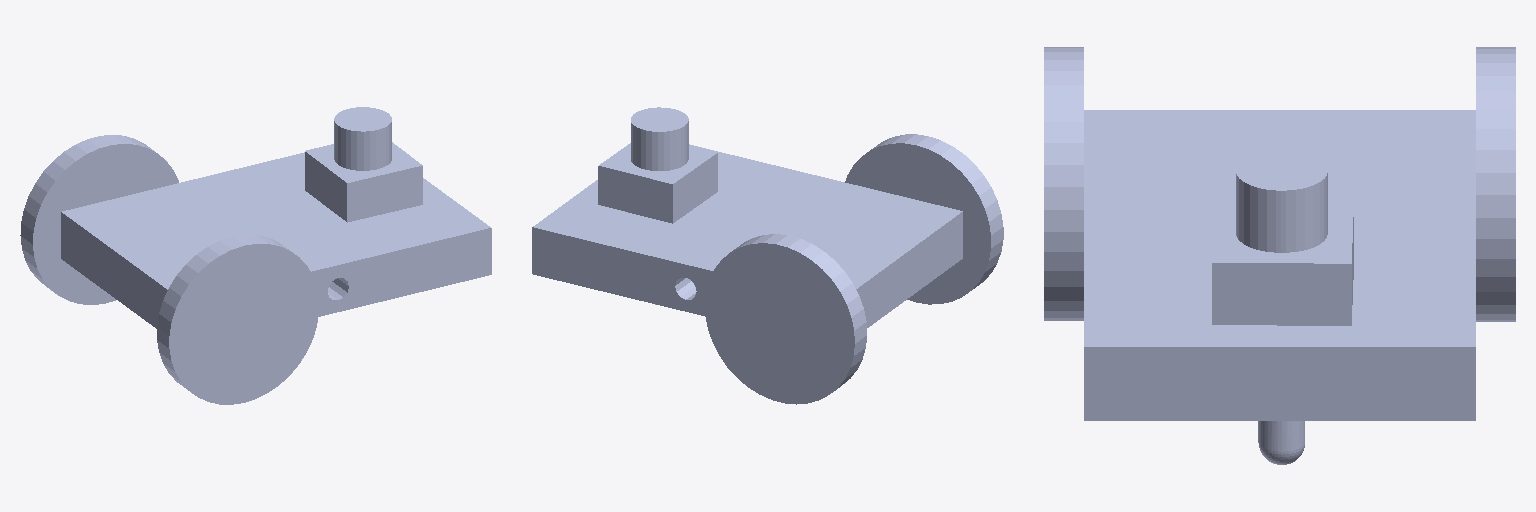
robot.urdf — differential:
<?xml version="1.0" encoding="utf-8"?>

<robot
  name="differential">


 <link name="base_footprint">
    
    <visual>
        <origin xyz="0 0 0" rpy="0 0 0" />
        <geometry>
            <box size="0.001 0.001 0.001" />
        </geometry>
    </visual>
  </link>

  <gazebo reference="base_footprint">
    <turnGravityOff>false</turnGravityOff>
  </gazebo>


<joint name="base_footprint_joint" type="fixed">
    <parent link="base_footprint" />
    <child link="base_link" />
    <origin xyz="0 0 0.04" rpy="0 0 0"/>
</joint> 


  <link
    name="base_link">
    <inertial>
      <origin
        xyz="0.0013326168773394 0 -0.0104935829042825"
        rpy="0 0 0" />
      <mass
        value="0.291996112689346" />
      <inertia
        ixx="0.000254300038430057"
        ixy="-6.31039545704454E-20"
        ixz="9.53312318029064E-08"
        iyy="0.000500563376859241"
        iyz="-1.27978613819878E-20"
        izz="0.000732923526244761" />
    </inertial>
    <visual>
      <origin
        xyz="0 0 0"
        rpy="0 0 0" />
      <geometry>
        <mesh
          filename="package://differential/meshes/base_link.STL" />
      </geometry>
      <material
        name="">
        <color
          rgba="0.792156862745098 0.819607843137255 0.933333333333333 1" />
      </material>
    </visual>
    <collision>
      <origin
        xyz="0 0 0"
        rpy="0 0 0" />
      <geometry>
        <mesh
          filename="package://differential/meshes/base_link.STL" />
      </geometry>
    </collision>
  </link>
  <link
    name="l_Link">
    <inertial>
      <origin
        xyz="1.38777878078145E-17 -0.00520000000000001 6.93889390390723E-18"
        rpy="0 0 0" />
      <mass
        value="0.0392699081698724" />
      <inertia
        ixx="1.21950081827661E-05"
        ixy="1.37642853928824E-21"
        ixz="8.60007289721248E-22"
        iyy="2.35815798560084E-05"
        iyz="1.83698225145457E-22"
        izz="1.21950081827661E-05" />
    </inertial>
    <visual>
      <origin
        xyz="0 0 0"
        rpy="0 0 0" />
      <geometry>
        <mesh
          filename="package://differential/meshes/l_Link.STL" />
      </geometry>
      <material
        name="">
        <color
          rgba="0.792156862745098 0.819607843137255 0.933333333333333 1" />
      </material>
    </visual>
    <collision>
      <origin
        xyz="0 0 0"
        rpy="0 0 0" />
      <geometry>
        <mesh
          filename="package://differential/meshes/l_Link.STL" />
      </geometry>
    </collision>
  </link>
  <joint
    name="ljoint"
    type="continuous">
    <origin
      xyz="-0.0495441632055891 0.06 -0.0107385754247457"
      rpy="0 0 0" />
    <parent
      link="base_link" />
    <child
      link="l_Link" />
    <axis
      xyz="0 1 0" />
    <limit
      effort="2"
      velocity="2" />
  </joint>
  <link
    name="r_Link">
    <inertial>
      <origin
        xyz="0.0051993019972844 8.51982454893874E-05 6.93889390390723E-18"
        rpy="0 0 0" />
      <mass
        value="0.0392699081698724" />
      <inertia
        ixx="2.35785231927301E-05"
        ixy="1.86535713227953E-07"
        ixz="2.88283775464071E-23"
        iyy="1.21980648460444E-05"
        iyz="8.02913433156683E-22"
        izz="1.21950081827661E-05" />
    </inertial>
    <visual>
      <origin
        xyz="0 0 0"
        rpy="0 0 0" />
      <geometry>
        <mesh
          filename="package://differential/meshes/r_Link.STL" />
      </geometry>
      <material
        name="">
        <color
          rgba="0.792156862745098 0.819607843137255 0.933333333333333 1" />
      </material>
    </visual>
    <collision>
      <origin
        xyz="0 0 0"
        rpy="0 0 0" />
      <geometry>
        <mesh
          filename="package://differential/meshes/r_Link.STL" />
      </geometry>
    </collision>
  </link>
  <joint
    name="rjoint"
    type="continuous">
    <origin
      xyz="-0.0495441632055891 -0.06 -0.0107385754247457"
      rpy="0 0 1.55441131568254" />
    <parent
      link="base_link" />
    <child
      link="r_Link" />
    <axis
      xyz="-0.999865768708538 -0.0163842779787271 0" />
    <limit
      effort="2"
      velocity="2" />
  </joint>
  <link
    name="sense">
    <inertial>
      <origin
        xyz="0.000345412463142514 0.00023279027761031 -0.0217463220907179"
        rpy="0 0 0" />
      <mass
        value="0.029229722273242" />
      <inertia
        ixx="4.99374006642867E-06"
        ixy="-8.14468679690465E-10"
        ixz="4.5470529966785E-08"
        iyy="4.92453447666973E-06"
        iyz="3.0644804179198E-08"
        izz="5.00463651434428E-06" />
    </inertial>
    <visual>
      <origin
        xyz="0 0 0"
        rpy="0 0 0" />
      <geometry>
        <mesh
          filename="package://differential/meshes/sense.STL" />
      </geometry>
      <material
        name="">
        <color
          rgba="0.792156862745098 0.819607843137255 0.933333333333333 1" />
      </material>
    </visual>
    <collision>
      <origin
        xyz="0 0 0"
        rpy="0 0 0" />
      <geometry>
        <mesh
          filename="package://differential/meshes/sense.STL" />
      </geometry>
    </collision>
  </link>
  <joint
    name="sj"
    type="fixed">
    <origin
      xyz="0.0407417104772299 0.000502264694932055 0.035"
      rpy="0 0 -0.0163850111123556" />
    <parent
      link="base_link" />
    <child
      link="sense" />
    <axis
      xyz="1 0 0" />
  </joint>
  <link
    name="castor_Link">
    <inertial>
      <origin
        xyz="0 0 0.0109583333333333"
        rpy="0 0 0" />
      <mass
        value="0.00271433605270158" />
      <inertia
        ixx="1.56552159272952E-07"
        ixy="2.06795153138257E-24"
        ixz="3.60236627318405E-23"
        iyy="1.56552159272952E-07"
        iyz="-1.35750140169932E-23"
        izz="4.72294473170075E-08" />
    </inertial>
    <visual>
      <origin
        xyz="0 0 0"
        rpy="0 0 0" />
      <geometry>
        <mesh
          filename="package://differential/meshes/castor_Link.STL" />
      </geometry>
      <material
        name="">
        <color
          rgba="0.792156862745098 0.819607843137255 0.933333333333333 1" />
      </material>
    </visual>
    <collision>
      <origin
        xyz="0 0 0"
        rpy="0 0 0" />
      <geometry>
        <mesh
          filename="package://differential/meshes/castor_Link.STL" />
      </geometry>
    </collision>
  </link>
  <joint
    name="castor_joint"
    type="fixed">
    <origin
      xyz="0.0407417104772299 0.000502264694932059 -0.044"
      rpy="0 0 0" />
    <parent
      link="base_link" />
    <child
      link="castor_Link" />
    <axis
      xyz="0 0 1" />
    <limit
      effort="2"
      velocity="2" />
  </joint>

<!--wheel plugins and sensor plugins-->

<gazebo reference="sense">
    <material>Gazebo/Blue</material>
    <turnGravityOff>false</turnGravityOff>
    <sensor type="ray" name="head_hokuyo_sensor">
      <pose>4 0 0 0 0 0</pose>
      <visualize>true</visualize>
      <update_rate>40</update_rate>
      <ray>
        <scan>
          <horizontal>
            <samples>720</samples>
            <resolution>1</resolution>
            <min_angle>-1.570796</min_angle>
            <max_angle>1.570796</max_angle>
          </horizontal>
        </scan>
        <range>
          <min>0.10</min>
          <max>10.0</max>
          <resolution>0.001</resolution>
        </range>
      </ray>
      <plugin name="gazebo_ros_head_hokuyo_controller" filename="libgazebo_ros_laser.so">
        <topicName>/scan</topicName>
        <frameName>sense</frameName>
      </plugin>
    </sensor>
</gazebo>




 <gazebo reference="l_link">
      <mu1 value="1.0"/>
      <mu2 value="1.0"/>
      <kp  value="10000000.0" />
      <kd  value="1.0" />
      <fdir1 value="1 0 0"/>
      <material>Gazebo/Grey</material>
      <turnGravityOff>false</turnGravityOff>
    </gazebo>



<transmission name="l_link trans">
    <type>transmission_interface/SimpleTransmission</type>
    <joint name="ljoint" />
    <actuator name="front_left_wheel_joint_motor">
        <hardwareInterface>EffortJointInterface</hardwareInterface>
    <mechanicalReduction>1</mechanicalReduction>
    </actuator>
</transmission>


 <gazebo reference="r_link">
      <mu1 value="1.0"/>
      <mu2 value="1.0"/>
      <kp  value="10000000.0" />
      <kd  value="1.0" />
      <fdir1 value="1 0 0"/>
      <material>Gazebo/Grey</material>
      <turnGravityOff>false</turnGravityOff>
    </gazebo>

<transmission name="front_right_wheel_joint_trans">
    <type>transmission_interface/SimpleTransmission</type>
    <joint name="rjoint" />
    <actuator name="front_right_wheel_joint_motor">
        <hardwareInterface>EffortJointInterface</hardwareInterface>
    <mechanicalReduction>1</mechanicalReduction>
    </actuator>
</transmission>
<!-- Differential drive controller  -->
<gazebo>
    <plugin name="object_controller" filename="libgazebo_ros_planar_move.so">
      <commandTopic>cmd_vel</commandTopic>
      <odometryTopic>odom</odometryTopic>
      <odometryFrame>odom</odometryFrame>
      <odometryRate>20.0</odometryRate>
      <robotBaseFrame>base_footprint</robotBaseFrame>
    </plugin>
  </gazebo>

</robot>

--- What the picture shows (computed from the rendered views, not written in the file) ---
Views: 3 orthographic renders of the robot side by side, from view 1: azimuth 30°, elevation 25°; view 2: azimuth 150°, elevation 25°; view 3: azimuth 270°, elevation 25°.
Model differential with 6 links and 5 joints (2 continuous, 3 fixed), rooted at base_footprint, posed every joint at zero.
Links seen in each view (by area): view 1: base_link, r_Link, l_Link, sense; view 2: base_link, l_Link, r_Link, sense; view 3: base_link, sense, l_Link, r_Link, castor_Link.
Link boxes in pixels (box(x1,y1,x2,y2)): base_link: box(61, 152, 491, 328); r_Link: box(157, 235, 318, 404); l_Link: box(20, 135, 178, 304); sense: box(305, 107, 422, 222); base_link: box(532, 144, 962, 327); l_Link: box(705, 234, 866, 404); r_Link: box(845, 134, 1003, 304); sense: box(598, 107, 717, 223); base_link: box(1084, 110, 1475, 420); sense: box(1212, 152, 1353, 325); l_Link: box(1476, 47, 1515, 321); r_Link: box(1044, 47, 1083, 320); castor_Link: box(1258, 421, 1304, 464).
Bounding box of the posed robot: 0.1559 × 0.12 × 0.082 m (x, y, z).
5 mesh visuals loaded from 5 distinct referenced files (5 binary STL).
